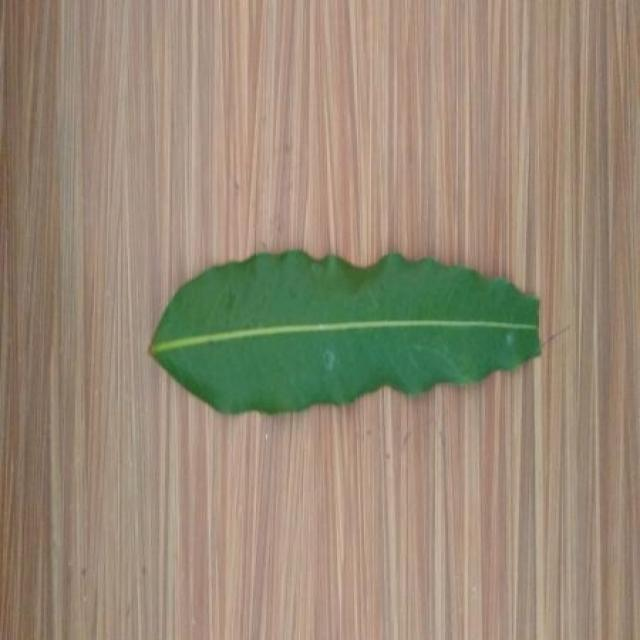ashoka: (152, 250, 540, 414)
